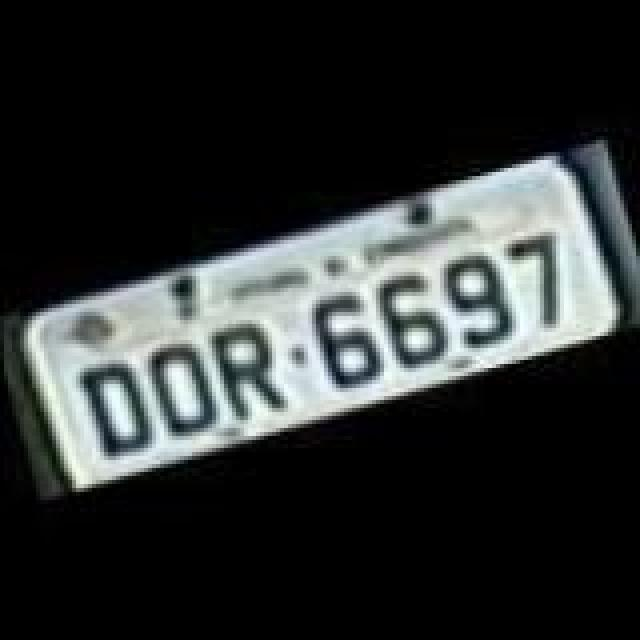6: (298, 276, 390, 392), (366, 260, 458, 376)
7: (492, 218, 576, 334)
9: (436, 236, 524, 356)
D: (68, 350, 160, 466)
O: (132, 328, 224, 444)
R: (200, 314, 284, 422)
